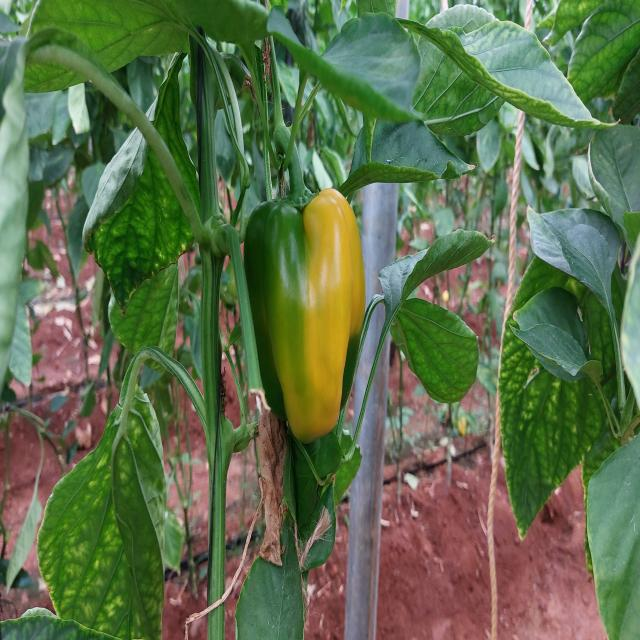GreenishYellow--Can-be-Harvested: (226, 194, 411, 494)
